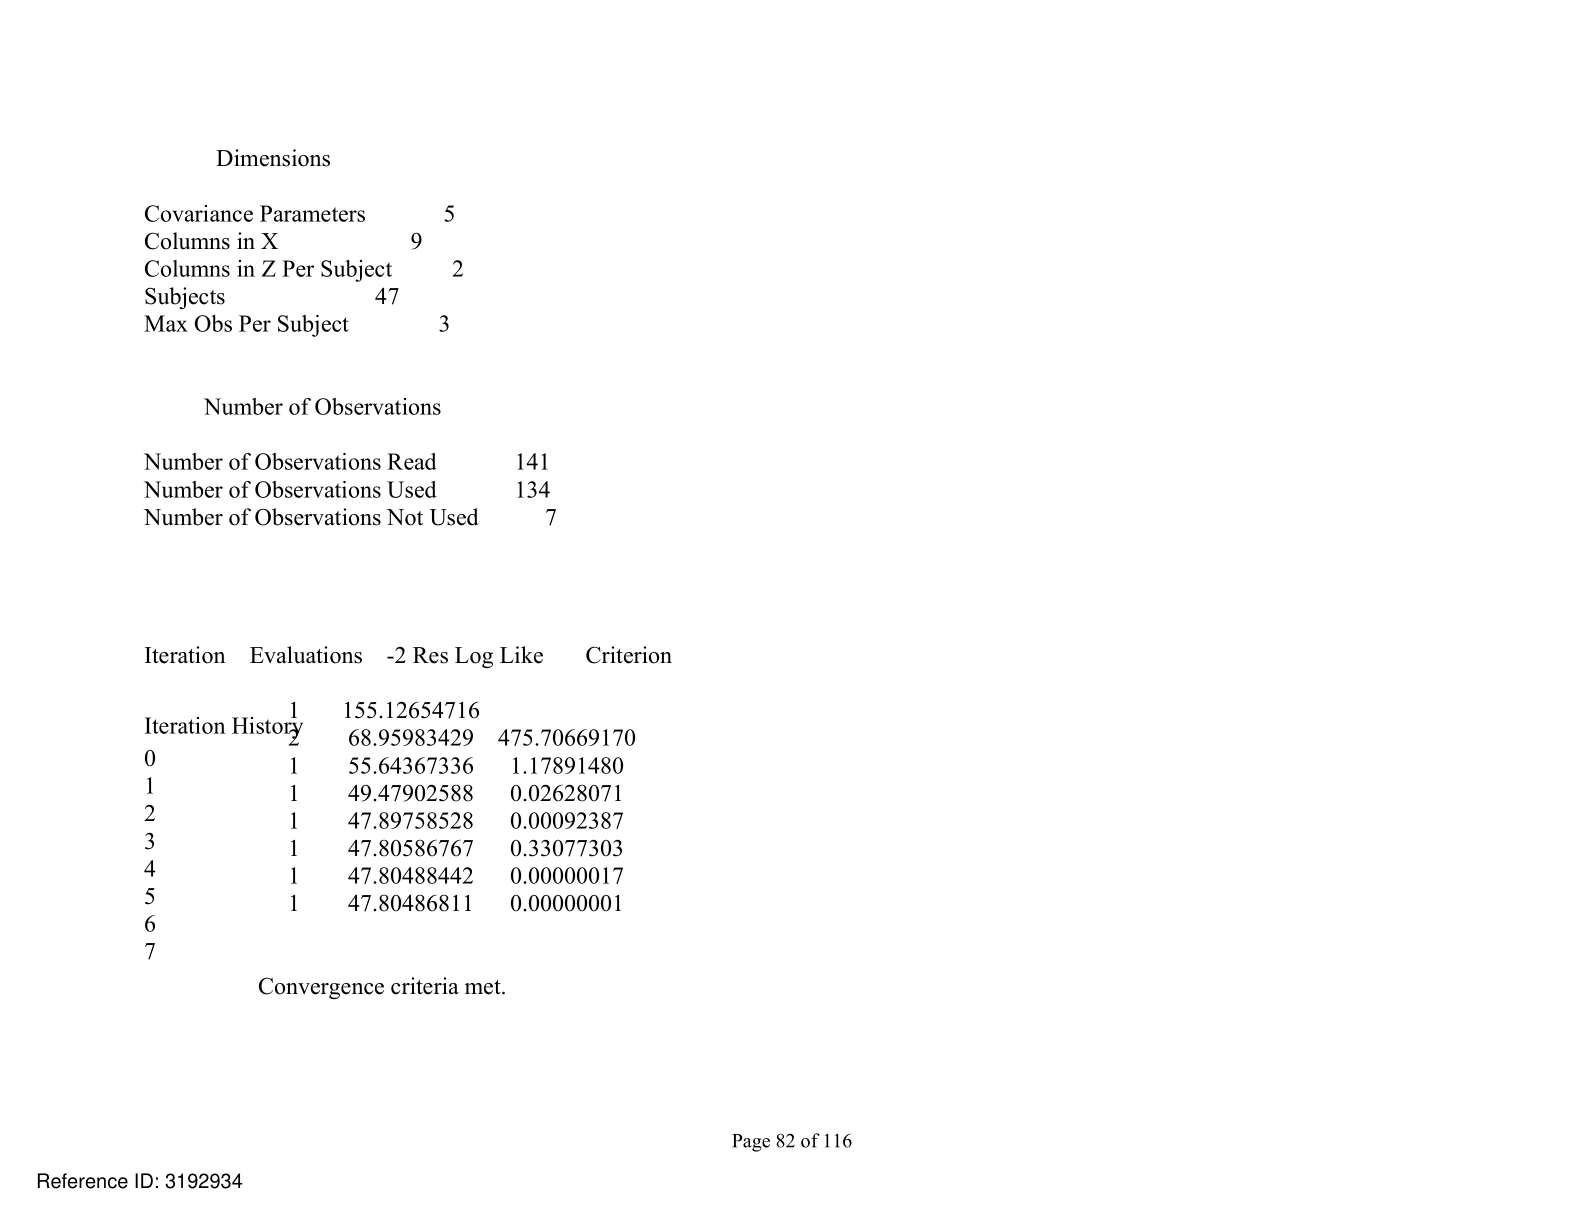nolines: (141, 643, 672, 960), (141, 199, 464, 338), (143, 451, 559, 530)
